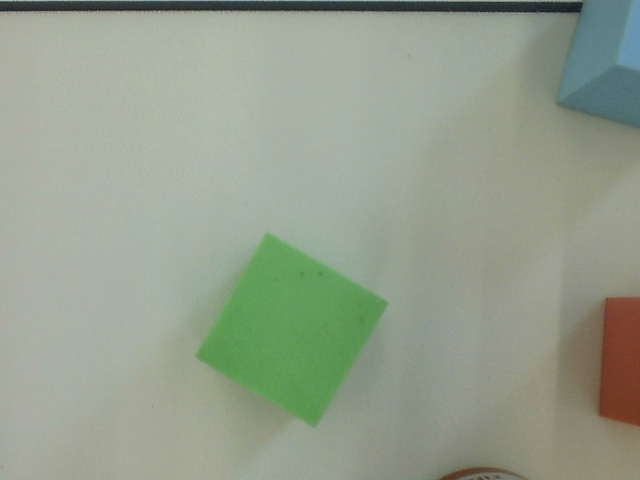bluecube: (551, 1, 640, 132)
cola: (423, 460, 539, 480)
greencube: (189, 225, 392, 434)
redcube: (591, 286, 640, 436)
